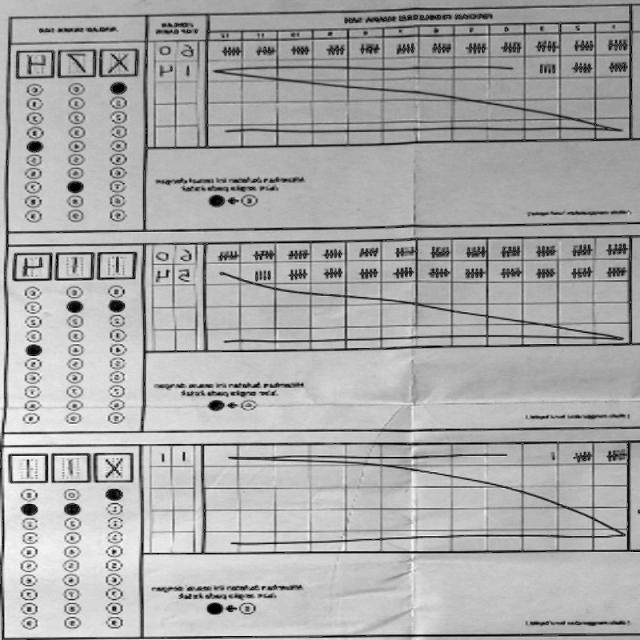Suara: (10, 43, 143, 82), (1, 447, 134, 486), (9, 245, 142, 283)
